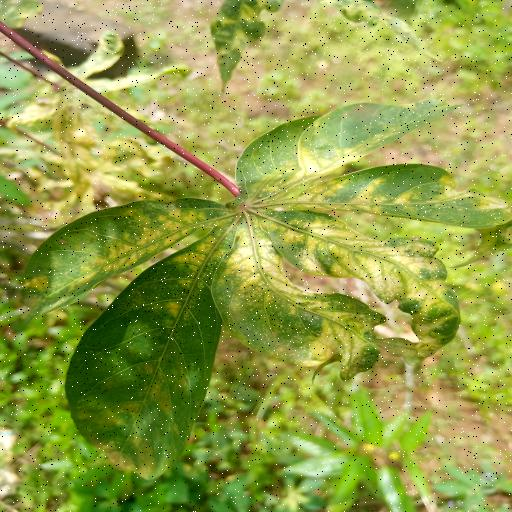Cassava_Mosaic: (0, 99, 512, 484)
